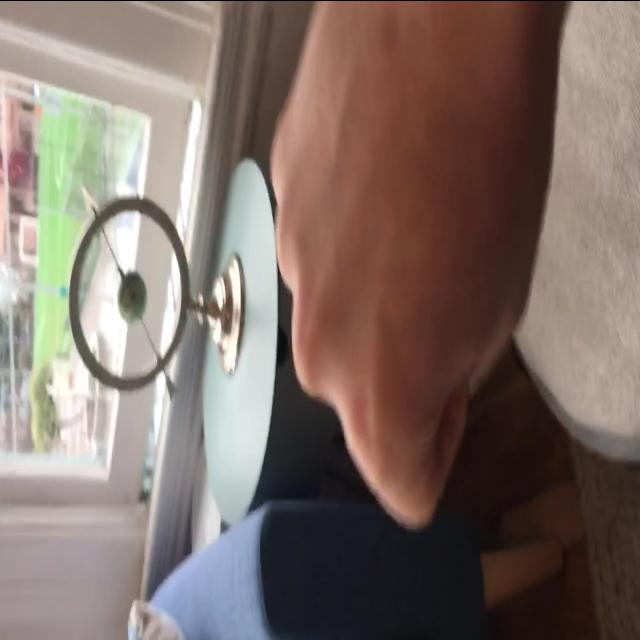Rock: (269, 0, 562, 534)
